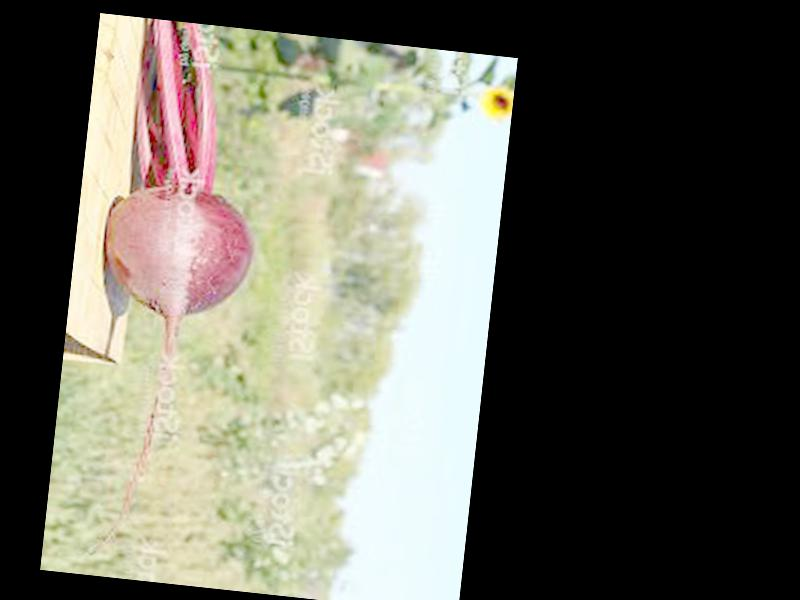Beet: (71, 15, 275, 568)
